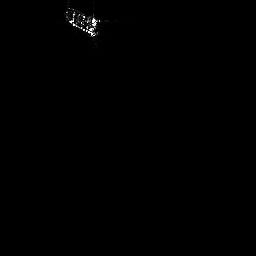ship: (64, 7, 101, 37)
